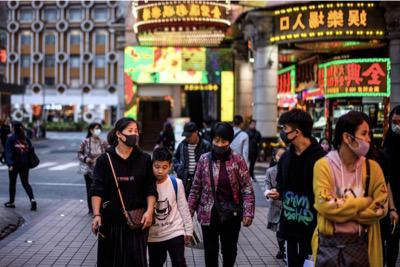mask_weared_incorrect: (350, 127, 371, 157)
with_mask: (211, 134, 230, 156), (119, 125, 139, 145), (279, 125, 297, 146), (390, 116, 399, 133), (91, 125, 102, 138)
without_mask: (151, 162, 169, 178), (185, 132, 195, 143)
